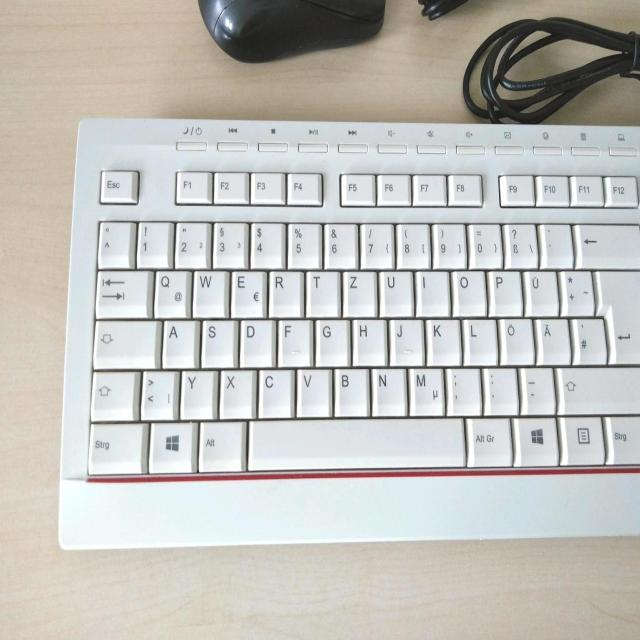0: (467, 219, 501, 267)
1: (136, 218, 170, 266)
2: (174, 218, 209, 266)
3: (212, 218, 246, 267)
4: (249, 219, 283, 267)
5: (286, 219, 319, 267)
6: (322, 219, 356, 267)
7: (359, 219, 392, 267)
8: (395, 219, 429, 267)
9: (431, 219, 465, 267)
a: (162, 316, 196, 366)
accent: (538, 221, 572, 267)
ae: (534, 315, 570, 364)
alt-left: (197, 418, 243, 472)
altgr-right: (464, 414, 511, 466)
b: (332, 364, 368, 415)
c: (256, 365, 293, 416)
caret: (96, 218, 131, 266)
comma: (444, 363, 480, 414)
d: (238, 315, 273, 366)
del: (573, 220, 640, 266)
e: (229, 267, 265, 316)
enter: (592, 264, 640, 364)
f: (276, 315, 311, 366)
g: (314, 315, 348, 365)
h: (351, 315, 385, 364)
hash: (570, 315, 605, 364)
i: (414, 267, 448, 315)
j: (388, 315, 423, 365)
k: (425, 314, 460, 364)
keyboard: (53, 107, 640, 557)
l: (462, 314, 496, 364)
less: (139, 366, 176, 418)
m: (407, 364, 443, 415)
minus: (518, 364, 554, 413)
n: (370, 365, 405, 415)
o: (450, 267, 485, 315)
oe: (498, 314, 534, 364)
p: (486, 267, 521, 315)
plus: (558, 266, 593, 315)
point: (481, 364, 517, 413)
q: (152, 267, 190, 316)
r: (268, 267, 302, 316)
s: (199, 316, 235, 366)
shift-left: (89, 368, 136, 420)
shift-lock: (92, 316, 158, 367)
shift-right: (554, 363, 640, 413)
space: (245, 414, 465, 469)
ss: (502, 219, 536, 267)
strg-left: (85, 420, 146, 474)
strg-right: (603, 413, 640, 464)
t: (305, 267, 338, 316)
tab: (94, 266, 150, 317)
u: (377, 267, 412, 315)
ue: (521, 266, 557, 315)
v: (295, 365, 330, 415)
w: (192, 266, 226, 316)
x: (219, 366, 254, 418)
y: (179, 366, 215, 418)
z: (341, 267, 375, 316)
